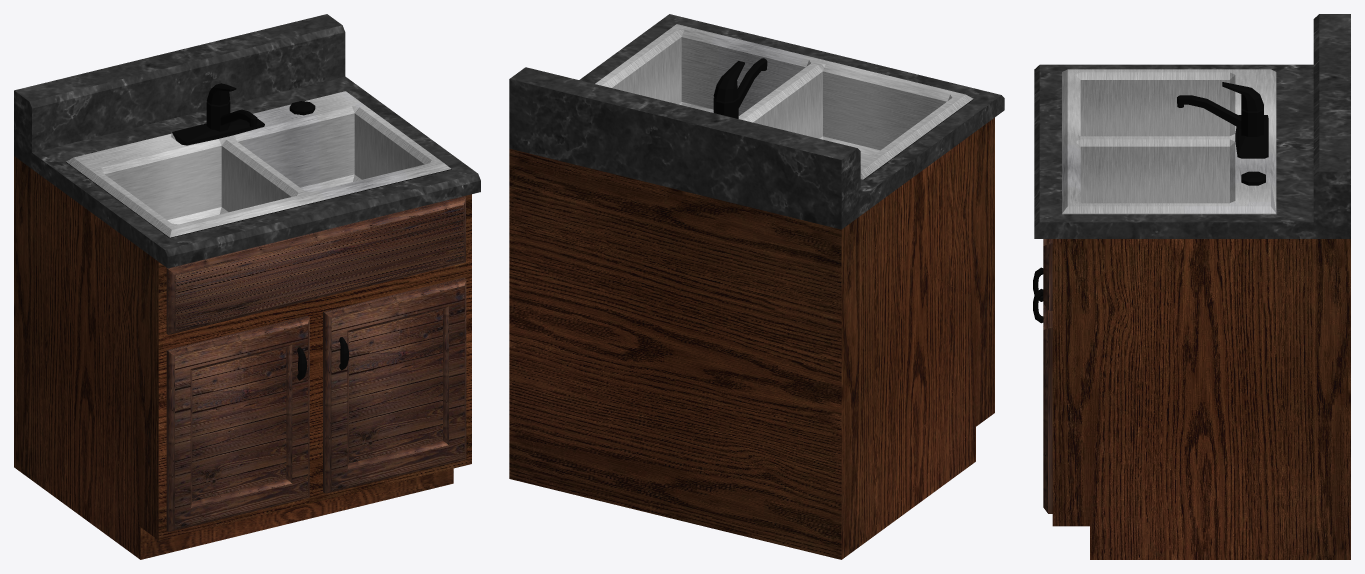
File: kitchen_sink.glb
3 views of the same model, side by side, from view 1: azimuth 30°, elevation 25°; view 2: azimuth 150°, elevation 25°; view 3: azimuth 270°, elevation 25° (orthographic). The views are drawn at different scales.
Visible parts, largest first — view 1: object7.001, object2, object6, object4, object1; view 2: object7.001, object2, object6; view 3: object7.001, object6, object2, object4.
Part boxes in pixels (box(x1,y1,x2,y2)): object7.001: box(14, 156, 471, 559); object2: box(14, 14, 480, 268); object6: box(66, 83, 451, 238); object4: box(323, 277, 466, 493); object1: box(166, 315, 309, 531); object7.001: box(509, 117, 994, 559); object2: box(509, 14, 1004, 229); object6: box(595, 24, 973, 179); object7.001: box(1043, 239, 1350, 559); object6: box(1062, 69, 1276, 214); object2: box(1034, 14, 1350, 238); object4: box(1043, 304, 1052, 513).
Size of the model in its own units: 1 by 1.18 by 0.8531.
5 materials, 4 textured.
